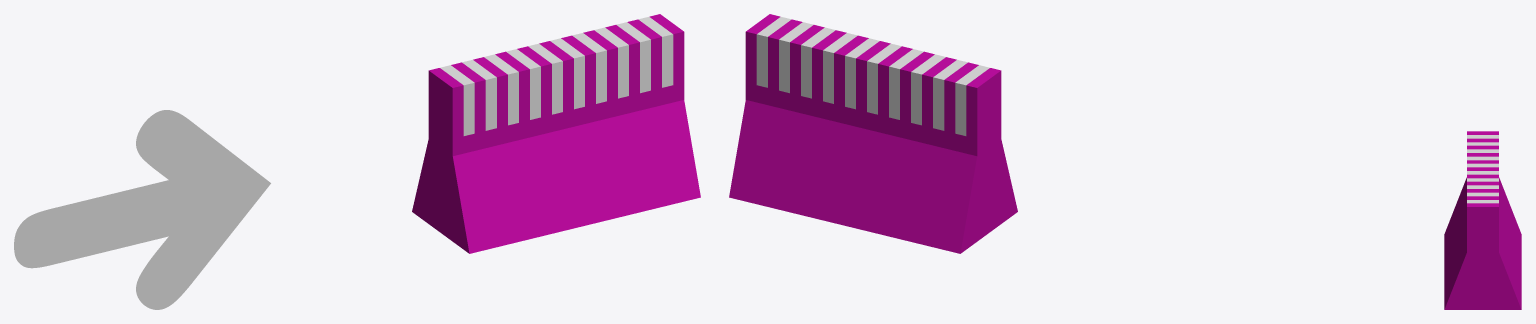
File: BarricadeAndArrow.glb
The picture shows the model from 3 angles, left to right: view 1: azimuth 30°, elevation 25°; view 2: azimuth 150°, elevation 25°; view 3: azimuth 270°, elevation 25°; orthographic projection. The views are drawn at different scales.
Parts seen in each view (by area): view 1: Barricade, Arrow; view 2: Barricade; view 3: Barricade.
Boxes of the visible parts, <box> form: Barricade: <box>412,14,700,253</box>; Arrow: <box>14,110,270,309</box>; Barricade: <box>729,14,1017,253</box>; Barricade: <box>1444,131,1521,309</box>.
Size of the model in its own units: 5.43 by 1.57 by 0.823.
